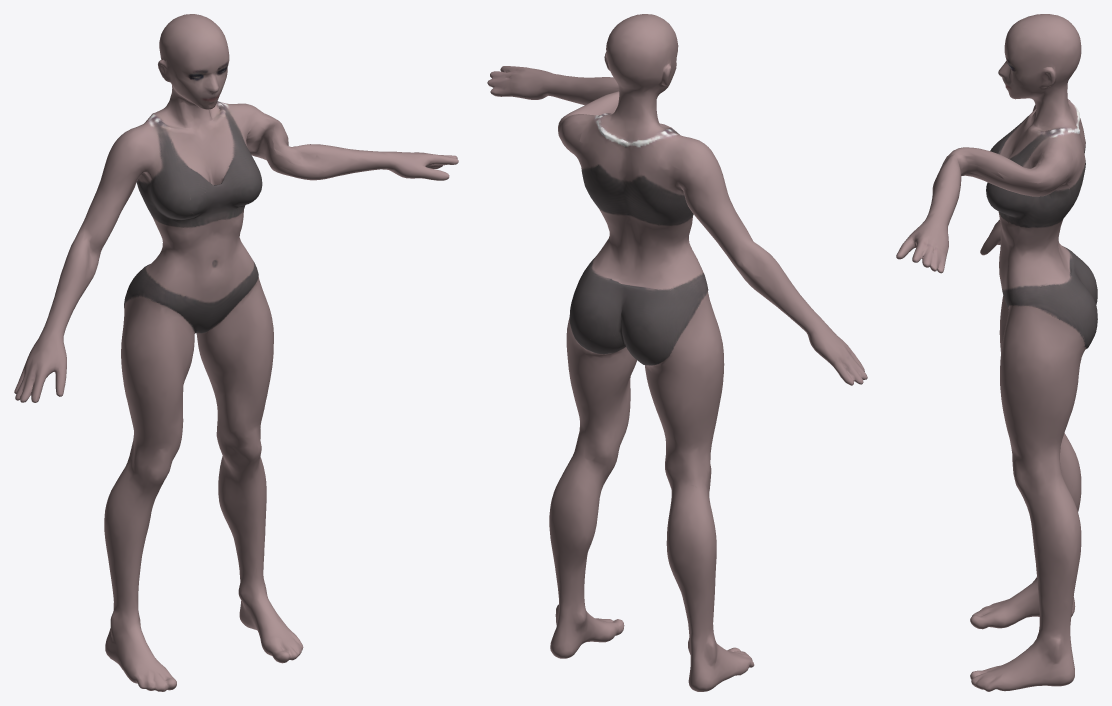
Rendered from 21-UpperArmR-90-child90-twist0-candidate.glb.
The picture shows the model from 3 angles, left to right: view 1: azimuth 30°, elevation 25°; view 2: azimuth 150°, elevation 25°; view 3: azimuth 270°, elevation 25°; orthographic projection. The views are drawn at different scales.
Visible parts, largest first — view 1: candidate; view 2: candidate; view 3: candidate.
Part boxes in pixels (<box>): candidate: <box>14,14,458,691</box>; candidate: <box>487,14,867,691</box>; candidate: <box>896,14,1097,691</box>.
Size of the model in its own units: 0.665 by 1 by 0.2871.
1 material, 1 textured.
